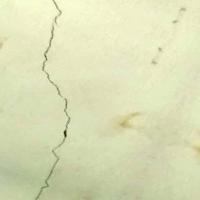crack: (29, 0, 81, 199)
